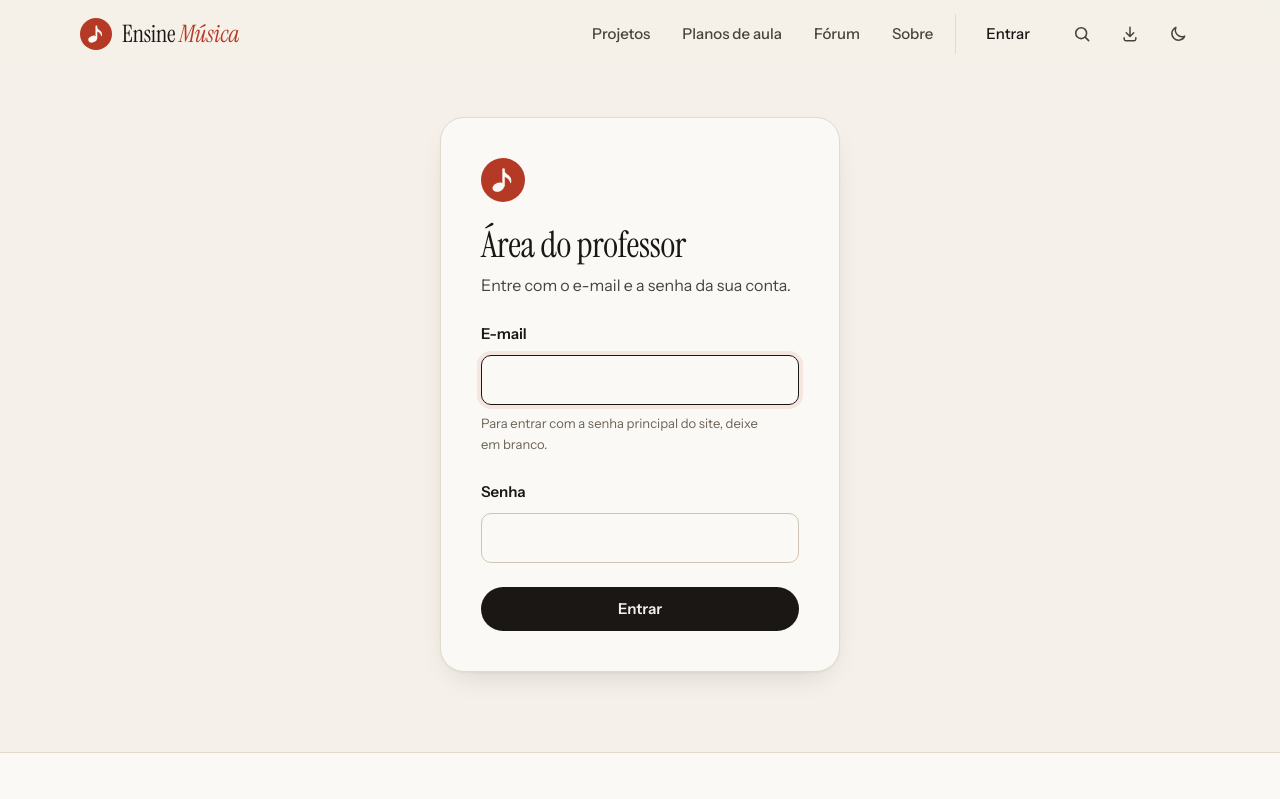
Scenario: login › senha incorreta mostra o erro e mantém na tela de login
Type "errada" into the password field labelled "Senha". click: (640, 538)
box: [481,513,799,563]
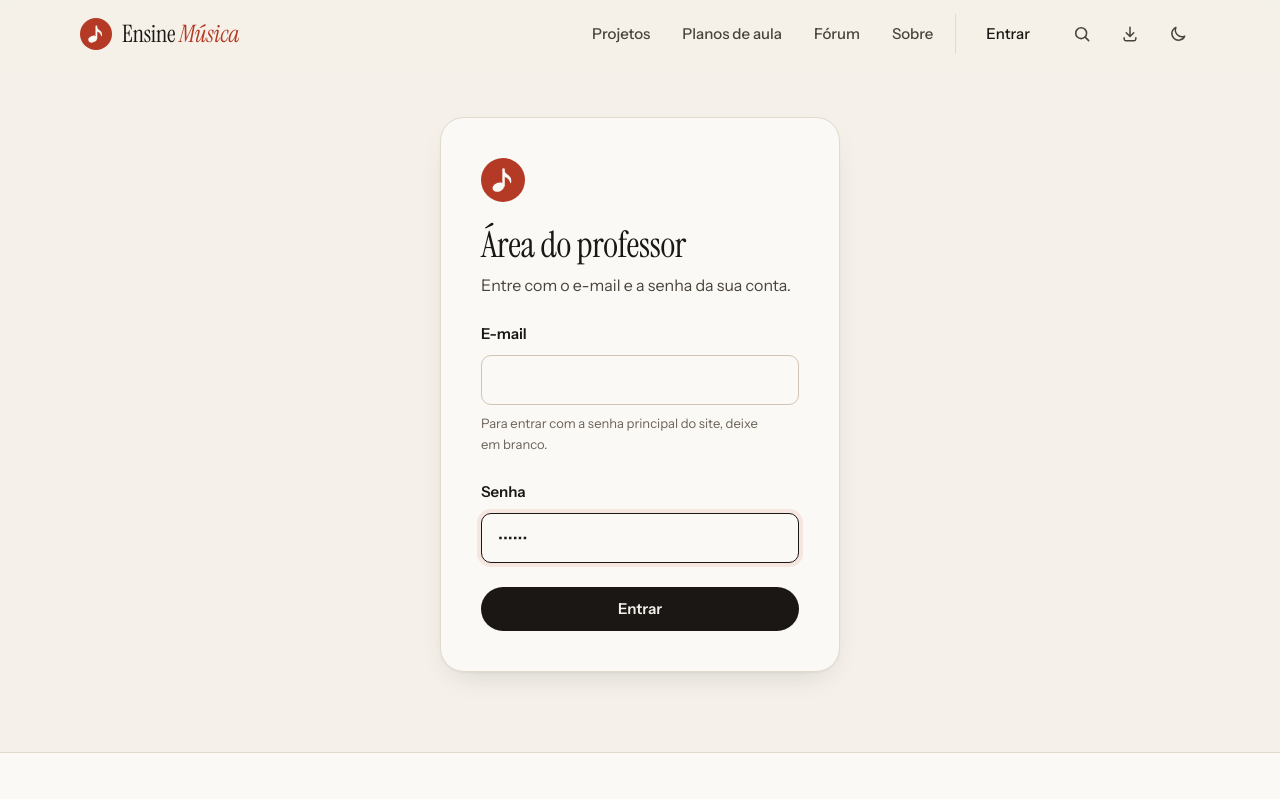
Click the button "Entrar". click: (640, 609)
box: [481,587,799,631]
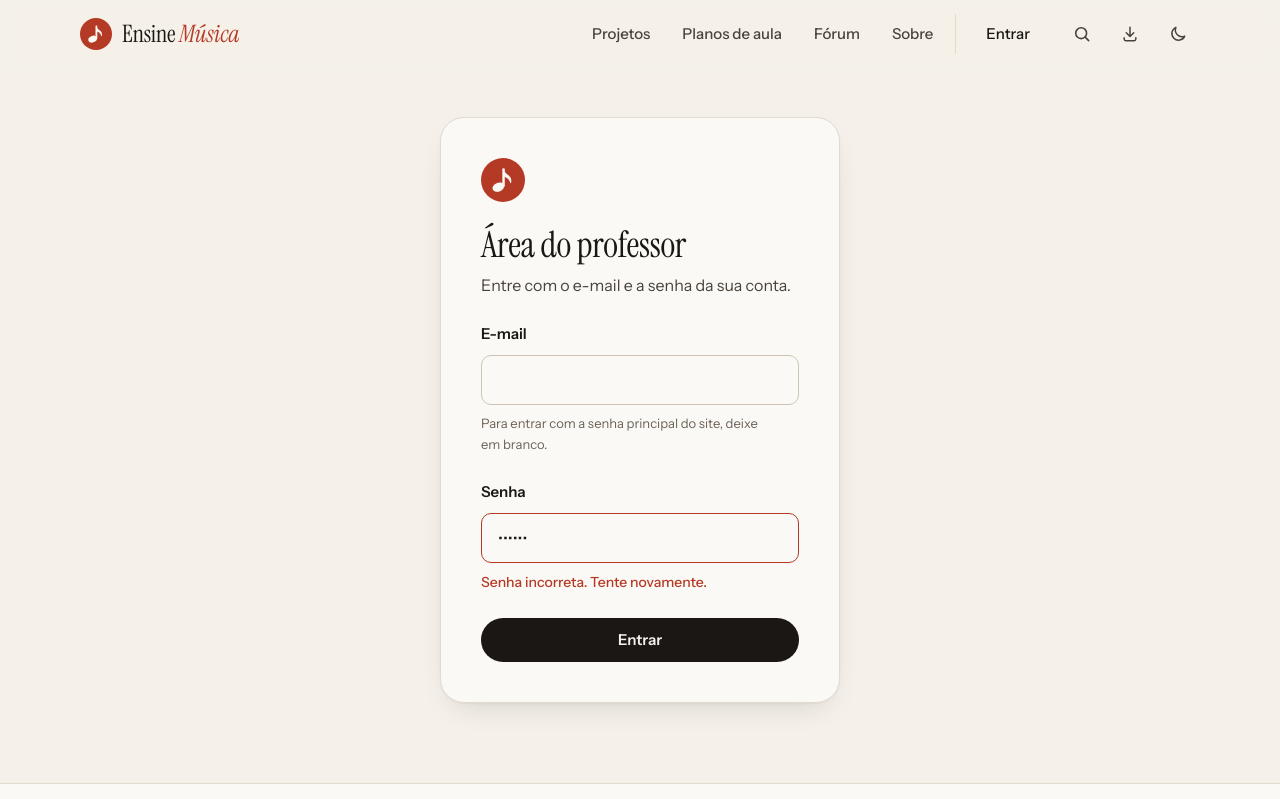
Expected: the message shows "Senha incorreta", [481,573,707,591]
